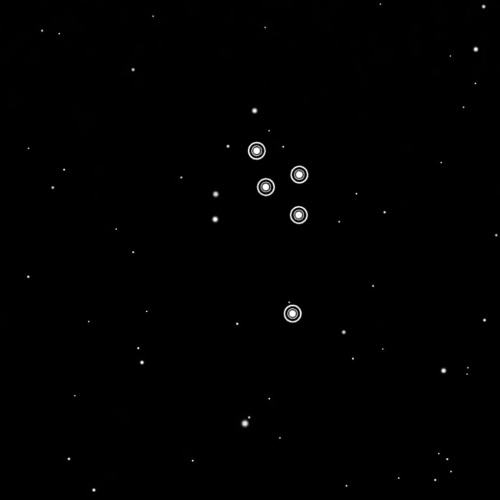delphinus: (243, 135, 312, 330)
